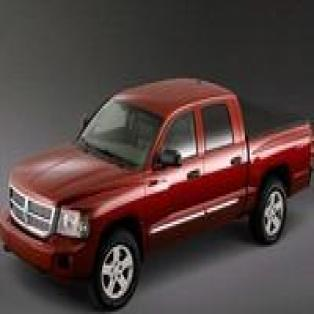Auto: (1, 74, 312, 312)
